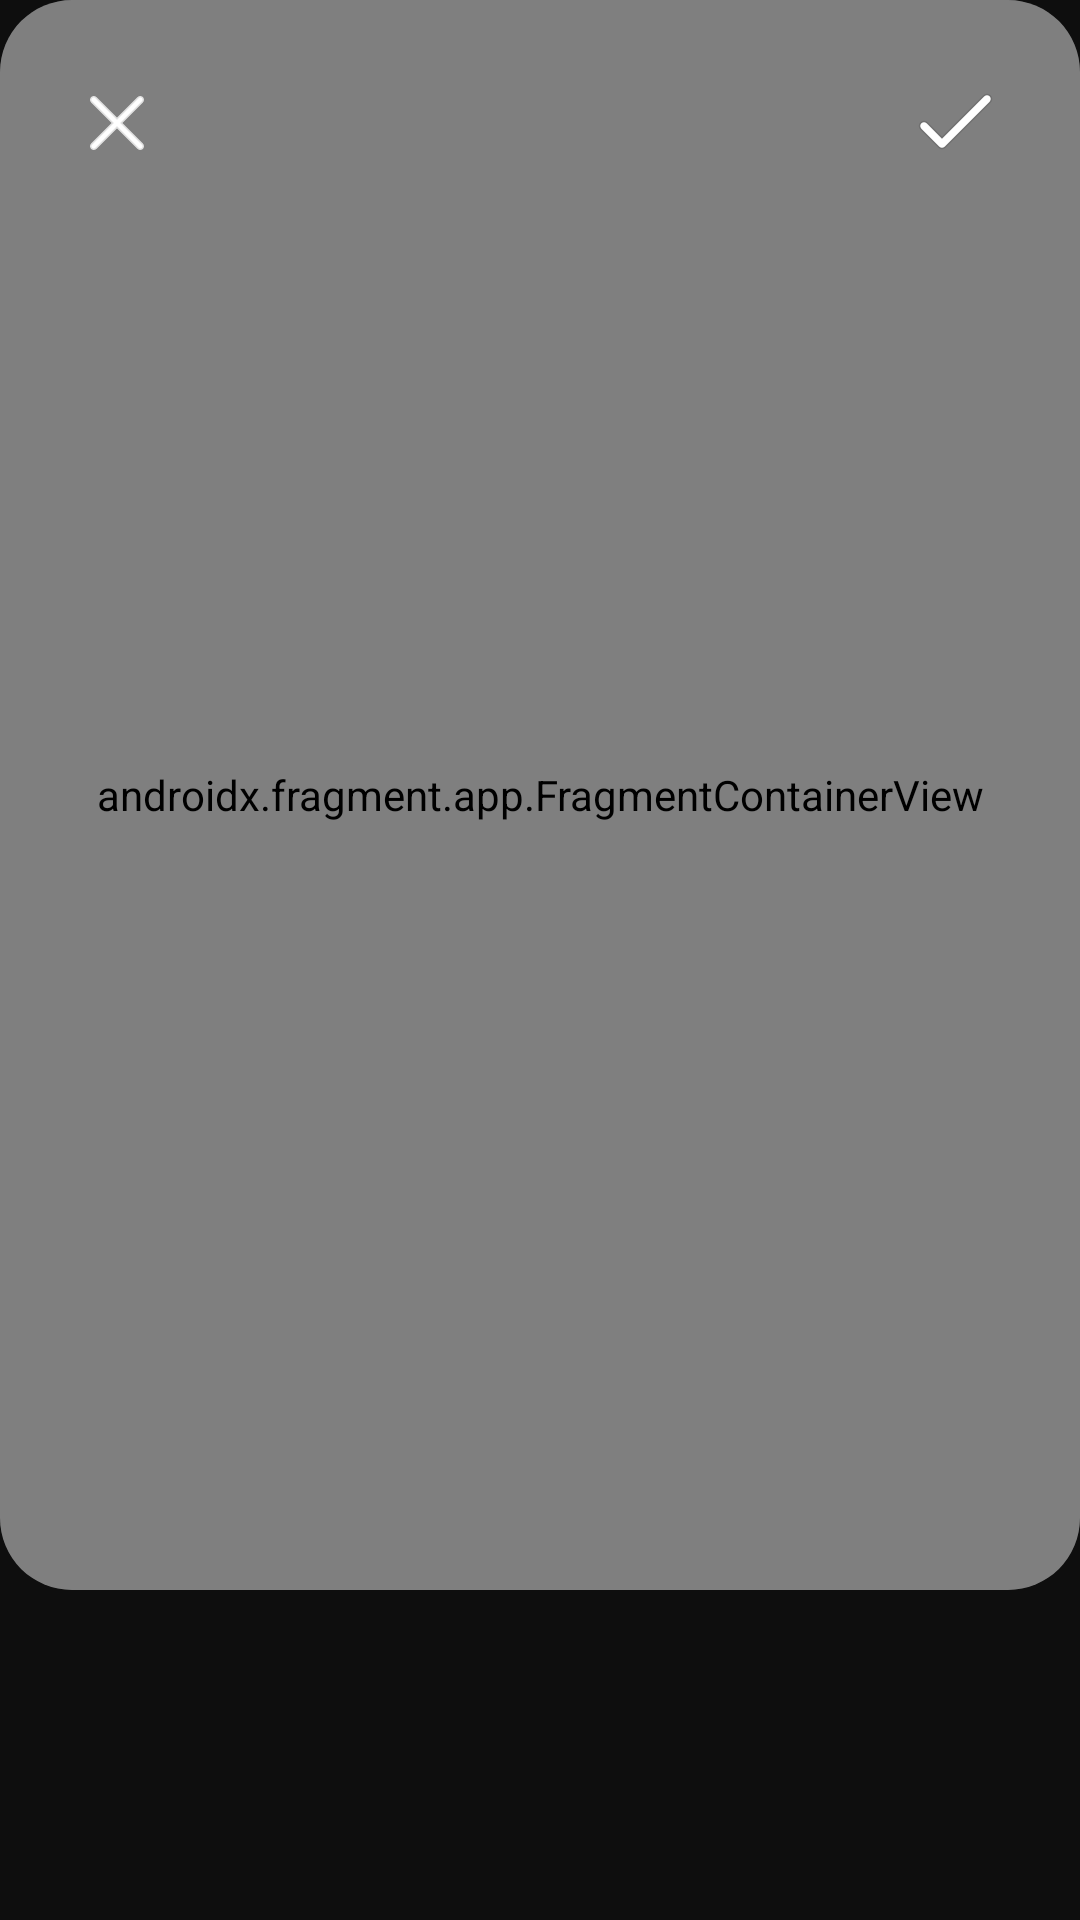

Icons on this 1080x1920 Android screen, each with the point to tap as (x,y):
close: (117,123)
done: (955,121)
